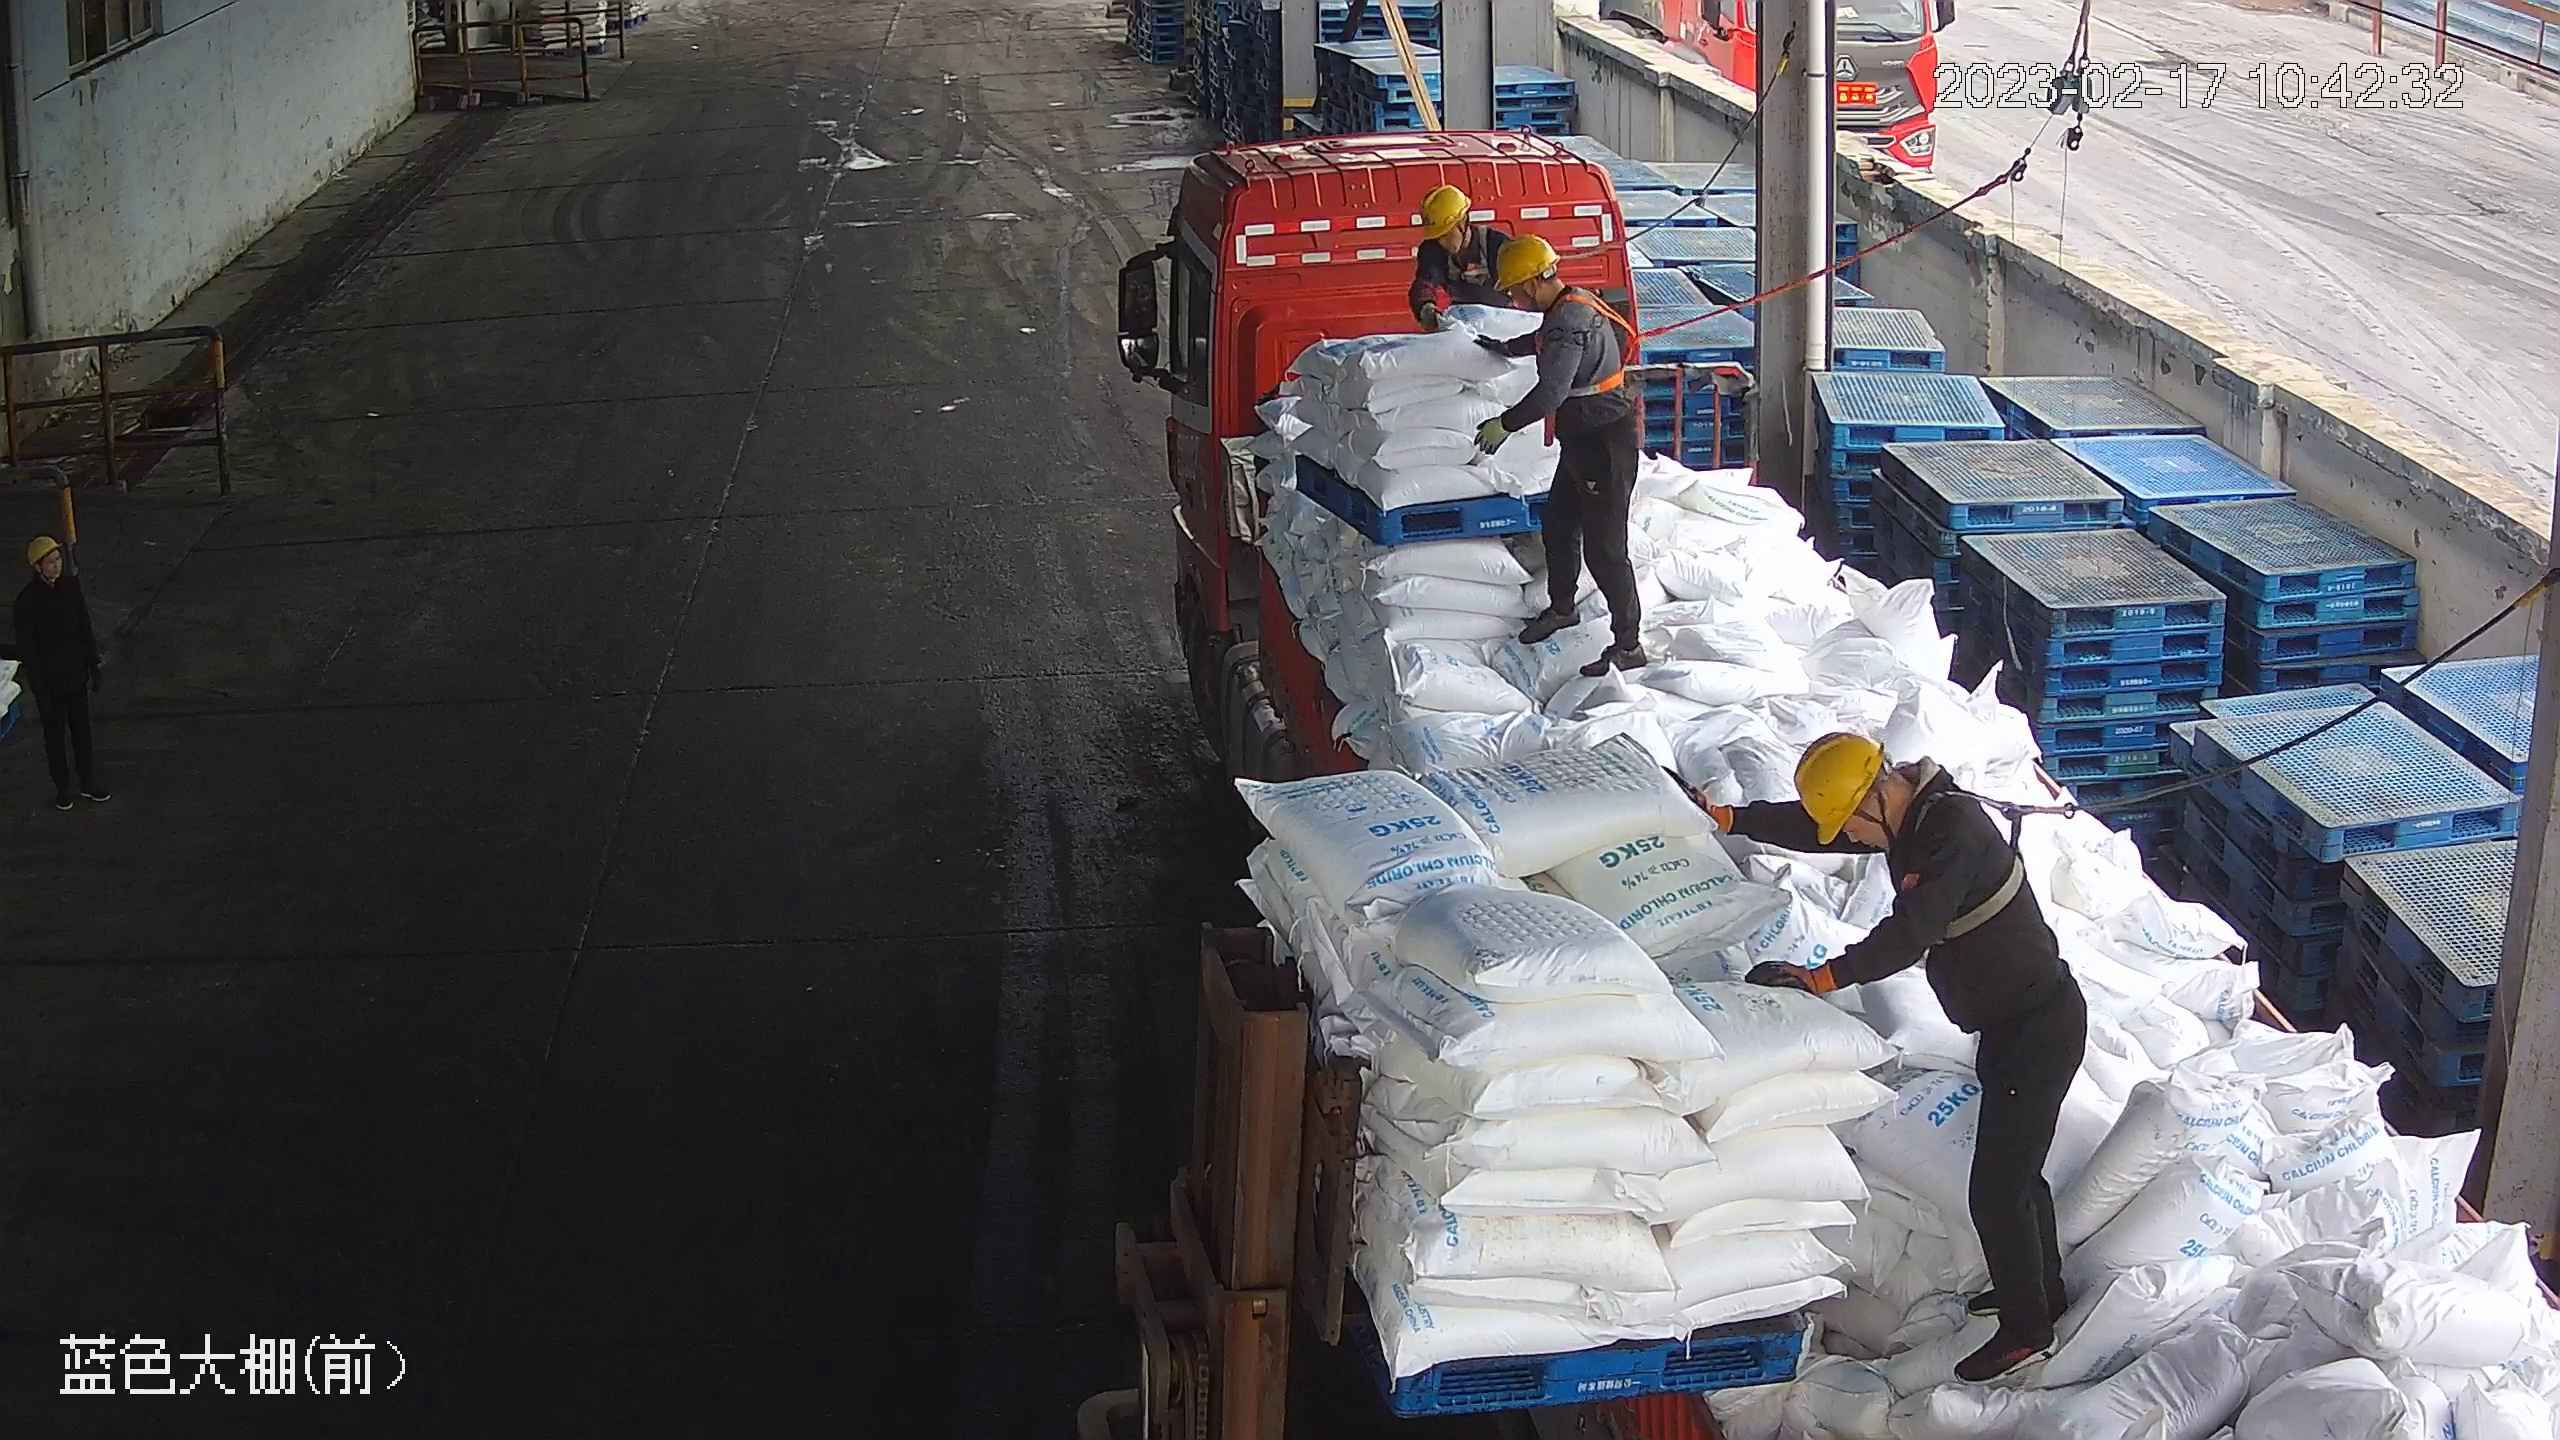belt: (1901, 756, 2047, 948), (1546, 280, 1654, 402), (1430, 239, 1490, 294)
head: (1784, 727, 2011, 917), (1491, 232, 1619, 356), (1411, 184, 1512, 277), (11, 533, 92, 619)
helmet: (1792, 729, 1885, 844), (1494, 232, 1558, 288), (1417, 182, 1472, 235), (24, 535, 61, 564)
people: (1714, 728, 2091, 1379), (1468, 227, 1655, 678), (7, 532, 114, 812)
truck: (1111, 117, 2559, 1440)
